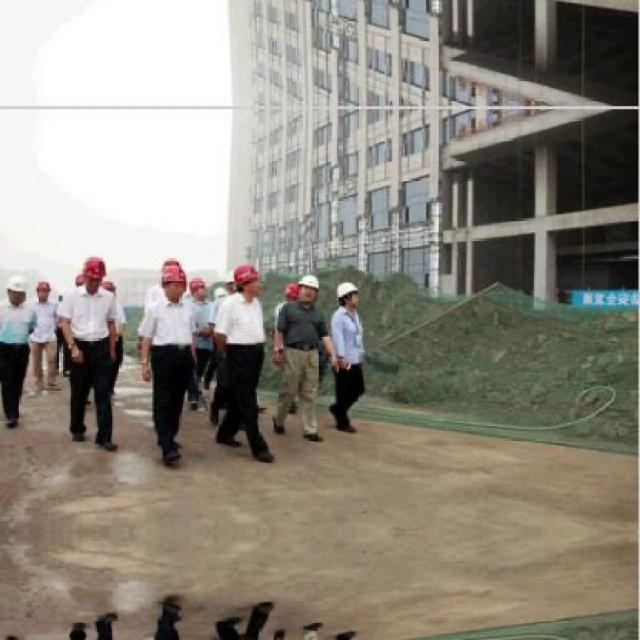helmet: (157, 262, 189, 298), (234, 260, 261, 297), (81, 254, 108, 291), (297, 268, 323, 304), (334, 278, 363, 310), (6, 271, 31, 306), (191, 276, 212, 302), (283, 280, 300, 305), (36, 275, 52, 300), (224, 268, 238, 294)
